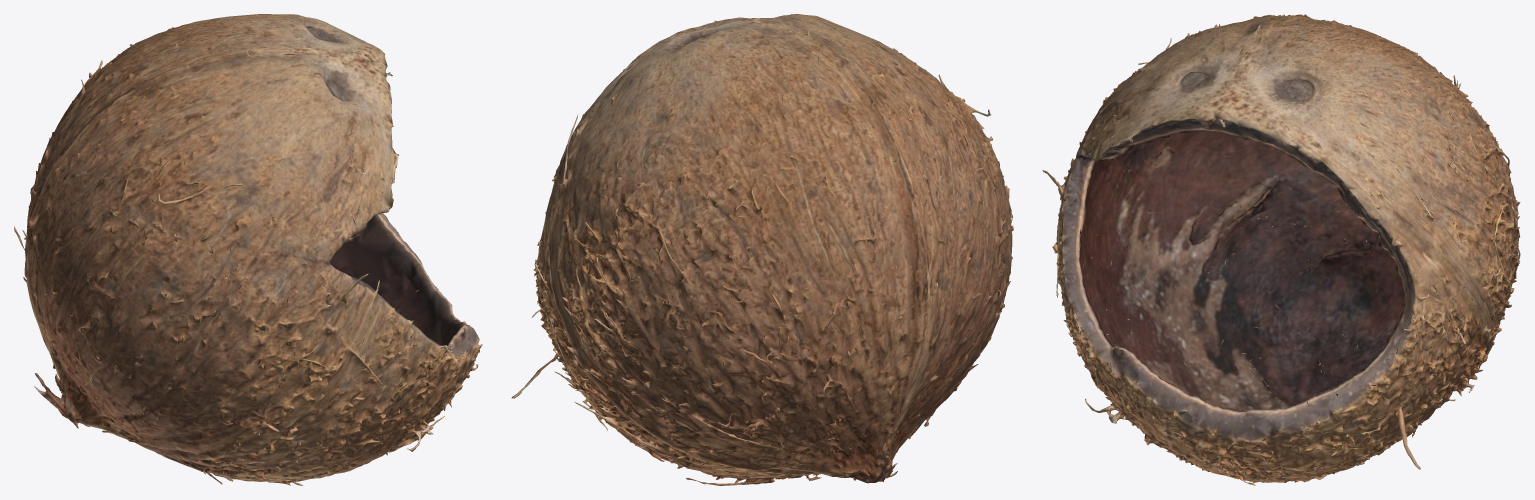
Rendered from shell.glb.
3 renders of one model, left to right at view 1: azimuth 30°, elevation 25°; view 2: azimuth 150°, elevation 25°; view 3: azimuth 270°, elevation 25°, orthographic. The views are drawn at different scales.
Visible parts, largest first — view 1: Object_2, Object_4, Object_3, Object_5; view 2: Object_2, Object_3, Object_5, Object_4; view 3: Object_2, Object_3, Object_4, Object_5.
Part boxes in pixels (bbox=[...]): Object_2: bbox=[25, 14, 463, 413]; Object_4: bbox=[39, 145, 482, 485]; Object_3: bbox=[14, 53, 451, 485]; Object_5: bbox=[23, 16, 445, 470]; Object_2: bbox=[536, 14, 1013, 419]; Object_3: bbox=[533, 54, 1012, 485]; Object_5: bbox=[511, 16, 984, 485]; Object_4: bbox=[641, 137, 1013, 478]; Object_2: bbox=[1042, 14, 1519, 427]; Object_3: bbox=[1057, 20, 1520, 469]; Object_4: bbox=[1052, 121, 1390, 485]; Object_5: bbox=[1103, 14, 1520, 482].
Size of the model in its own units: 0.1143 by 0.1182 by 0.122.
Materials: 1 (1 with a texture image).
